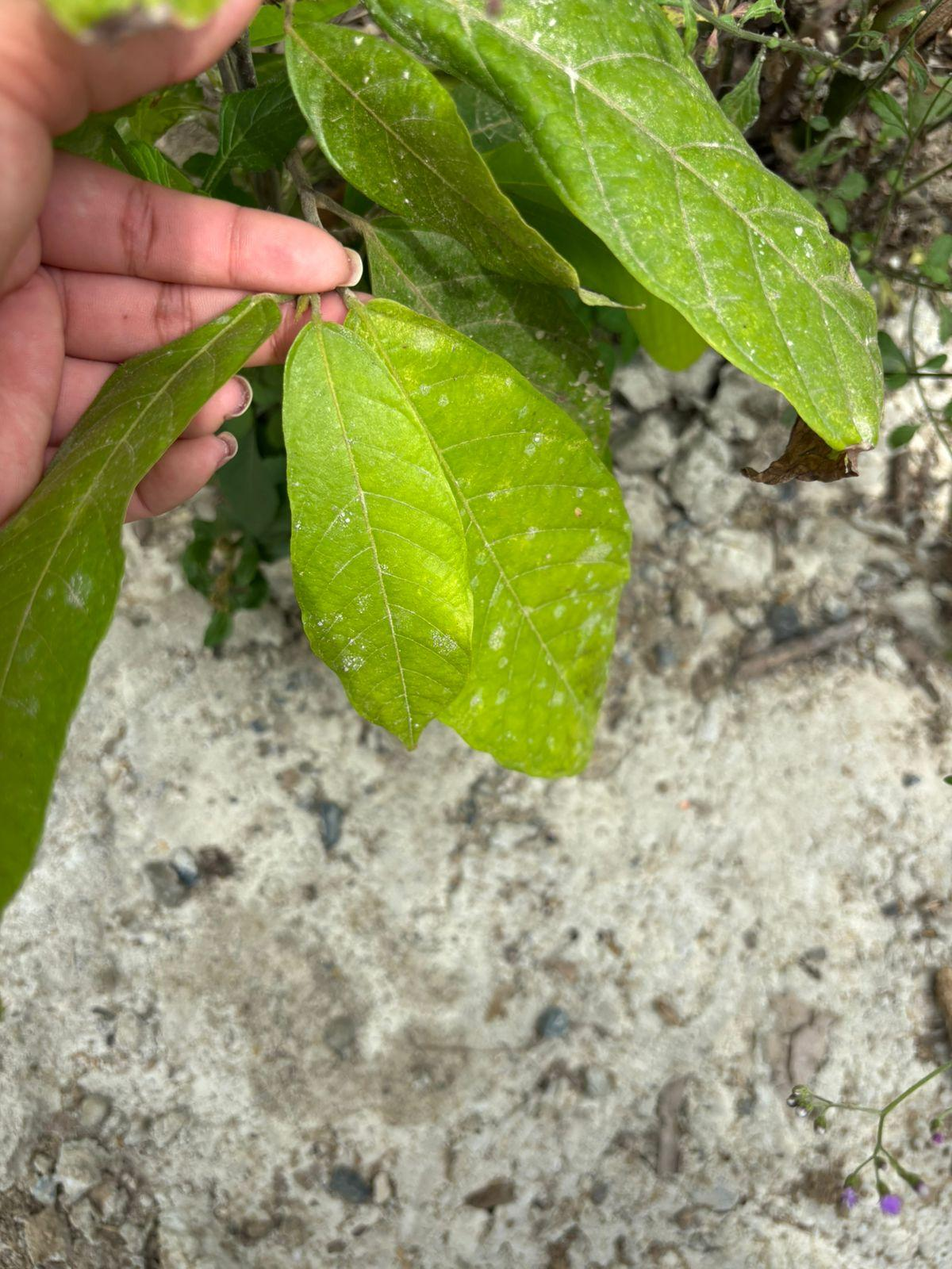deficiencia_nitrogeno: (348, 301, 629, 776), (283, 323, 472, 747)
